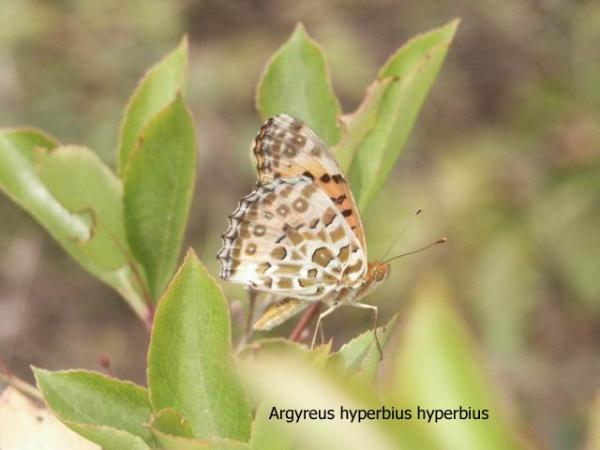Argyreus hyperbius: (209, 108, 449, 359)
butterfly: (211, 110, 451, 361)
